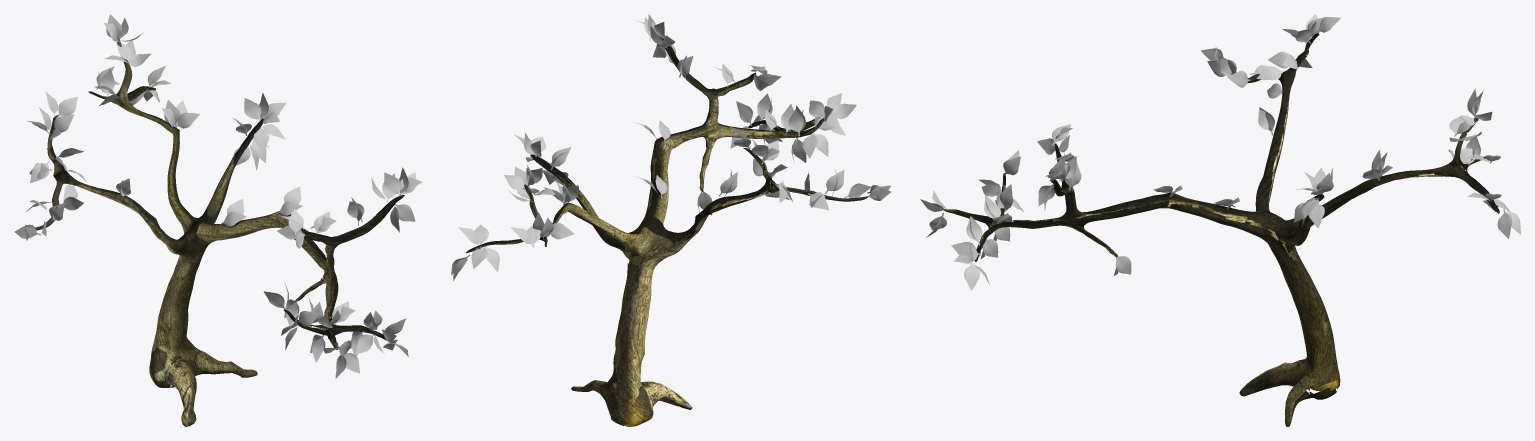
The model's file is MED_tree.fbx.
The picture shows the model from 3 angles, left to right: view 1: azimuth 30°, elevation 25°; view 2: azimuth 150°, elevation 25°; view 3: azimuth 270°, elevation 25°; orthographic projection. The views are drawn at different scales.
Visible parts, largest first — view 1: polymsh2, polymsh3; view 2: polymsh2, polymsh3; view 3: polymsh2, polymsh3.
Boxes of the visible parts, box(x1,y1,x2,y2) form: polymsh2: box(35, 37, 404, 426); polymsh3: box(14, 14, 421, 378); polymsh2: box(465, 37, 868, 426); polymsh3: box(451, 14, 891, 280); polymsh2: box(944, 33, 1499, 426); polymsh3: box(920, 14, 1520, 290).
Size of the model in its own units: 33.03 by 31.1 by 51.36.
